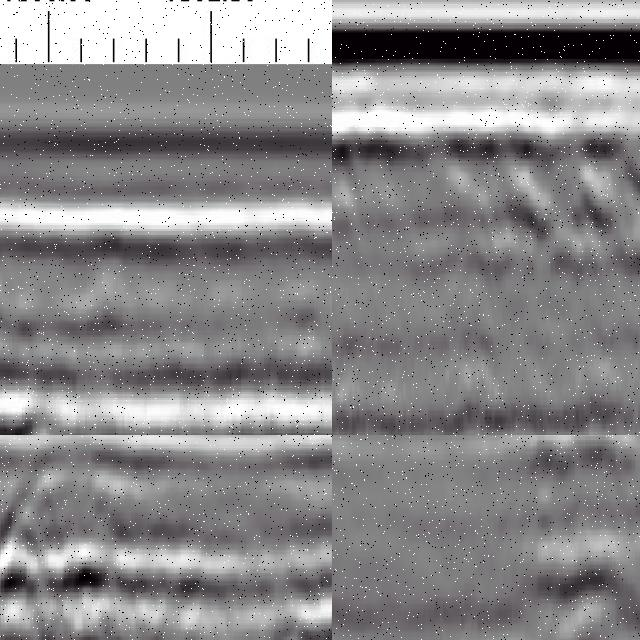loose: (379, 122, 640, 262), (1, 503, 190, 640), (514, 436, 640, 640), (1, 281, 104, 436)
